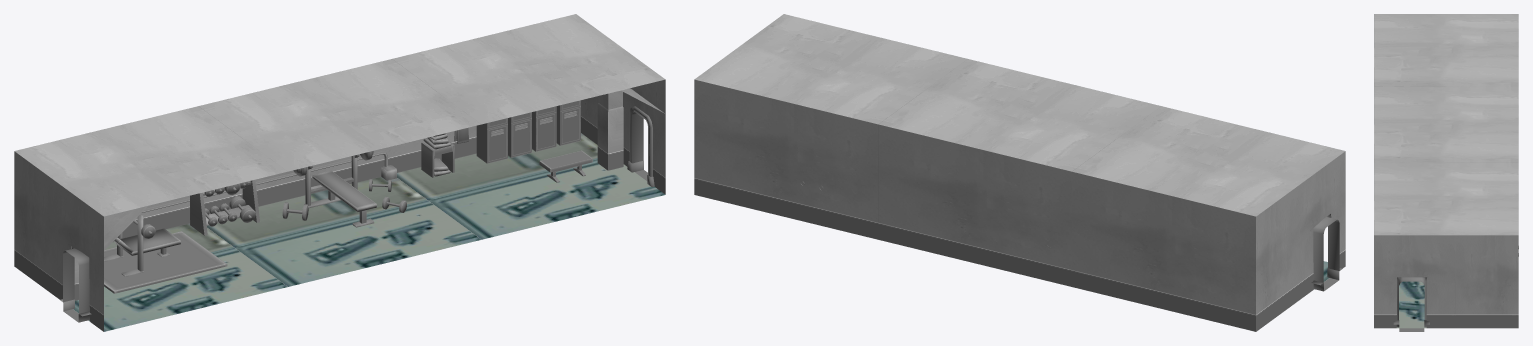
Rendered from MSH_GYM_room_L1_R3_optimized.fbx.
3 views of the same model, side by side, from view 1: azimuth 30°, elevation 25°; view 2: azimuth 150°, elevation 25°; view 3: azimuth 270°, elevation 25° (orthographic). The views are drawn at different scales.
Parts seen in each view (by area): view 1: lightmap1, lightmap0, lightmap-1; view 2: lightmap1, lightmap-1; view 3: lightmap1, lightmap-1.
Boxes of the visible parts, bbox=[...] form: lightmap1: bbox=[14, 14, 665, 331]; lightmap0: bbox=[104, 100, 592, 293]; lightmap-1: bbox=[63, 112, 647, 322]; lightmap1: bbox=[694, 14, 1345, 331]; lightmap-1: bbox=[1313, 217, 1339, 291]; lightmap1: bbox=[1374, 14, 1518, 328]; lightmap-1: bbox=[1399, 277, 1424, 331].
Bounding box in the file's own units: 30.91 × 5.91 × 8.28.
